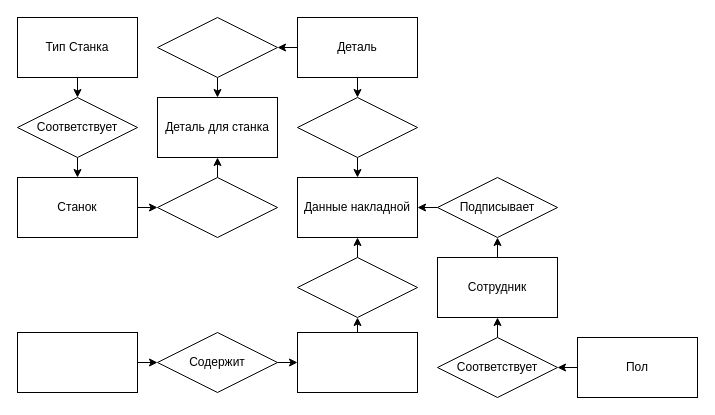
The diagram is 715 pixels wide and 415 high, and some of its shapes have lost their labels. The box of each missing label's shape, as (x1, y1, x2, y2) in pixels:
Находится: (156, 16, 278, 78)
Оформляется: (296, 96, 418, 158)
Склад: (296, 332, 418, 392)
Содержится: (156, 176, 278, 238)
Улица: (16, 332, 138, 392)
Формирует: (296, 256, 418, 318)
